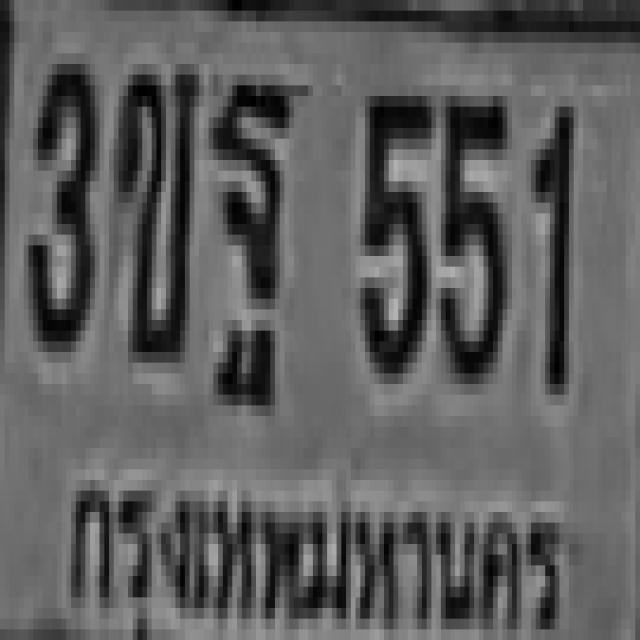1: (531, 96, 569, 384)
11KhorKhai: (114, 53, 194, 352)
25ThorThan: (209, 75, 289, 352)
3: (24, 54, 95, 342)
5: (356, 85, 426, 374), (436, 85, 503, 374)
Bangkok: (60, 458, 572, 640)
